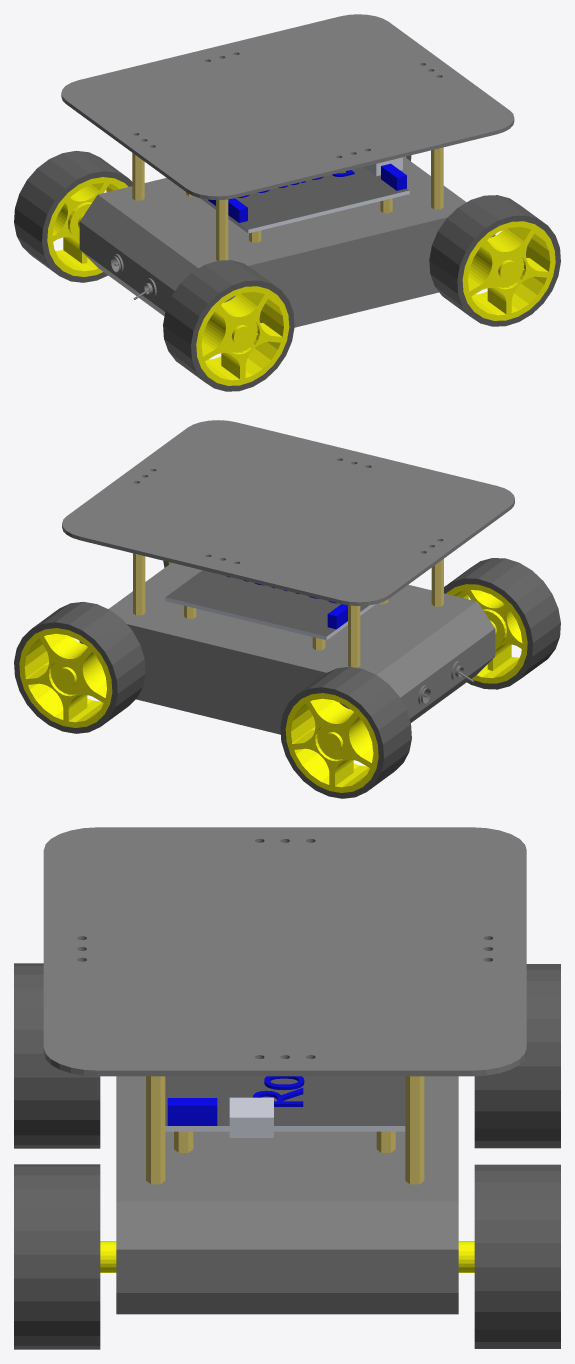
File: 4WD Cherokey Robot.glb
3 renders of one model, top to bottom at view 1: azimuth 30°, elevation 25°; view 2: azimuth 150°, elevation 25°; view 3: azimuth 270°, elevation 25°, orthographic. The views are drawn at different scales.
Parts seen in each view (by area): view 1: imagetostl_mesh0, imagetostl_mesh28, imagetostl_mesh21, imagetostl_mesh30, imagetostl_mesh56, imagetostl_mesh50, imagetostl_mesh62, imagetostl_mesh76, imagetostl_mesh51, imagetostl_mesh57, imagetostl_mesh31, imagetostl_mesh63 (+12 smaller); view 2: imagetostl_mesh0, imagetostl_mesh28, imagetostl_mesh25, imagetostl_mesh30, imagetostl_mesh44, imagetostl_mesh62, imagetostl_mesh76, imagetostl_mesh50, imagetostl_mesh63, imagetostl_mesh45, imagetostl_mesh31, imagetostl_mesh51 (+11 smaller); view 3: imagetostl_mesh0, imagetostl_mesh24, imagetostl_mesh28, imagetostl_mesh56, imagetostl_mesh44, imagetostl_mesh62, imagetostl_mesh50, imagetostl_mesh76, imagetostl_mesh16, imagetostl_mesh18, imagetostl_mesh75, imagetostl_mesh73 (+1 smaller).
Part boxes in pixels (x1=…): imagetostl_mesh0: x1=61, y1=14, x2=514, y2=200; imagetostl_mesh28: x1=116, y1=176, x2=453, y2=267; imagetostl_mesh21: x1=224, y1=221, x2=492, y2=324; imagetostl_mesh30: x1=80, y1=190, x2=212, y2=316; imagetostl_mesh56: x1=429, y1=195, x2=560, y2=326; imagetostl_mesh50: x1=163, y1=260, x2=294, y2=391; imagetostl_mesh62: x1=14, y1=150, x2=132, y2=282; imagetostl_mesh76: x1=207, y1=167, x2=409, y2=229; imagetostl_mesh51: x1=201, y1=292, x2=283, y2=380; imagetostl_mesh57: x1=468, y1=227, x2=550, y2=315; imagetostl_mesh31: x1=79, y1=221, x2=174, y2=311; imagetostl_mesh63: x1=52, y1=182, x2=121, y2=271; imagetostl_mesh0: x1=62, y1=420, x2=514, y2=605; imagetostl_mesh28: x1=121, y1=567, x2=458, y2=674; imagetostl_mesh25: x1=82, y1=627, x2=350, y2=731; imagetostl_mesh30: x1=362, y1=597, x2=494, y2=722; imagetostl_mesh44: x1=14, y1=601, x2=145, y2=733; imagetostl_mesh62: x1=280, y1=666, x2=411, y2=798; imagetostl_mesh76: x1=166, y1=570, x2=368, y2=636; imagetostl_mesh50: x1=444, y1=558, x2=560, y2=689; imagetostl_mesh63: x1=291, y1=698, x2=373, y2=787; imagetostl_mesh45: x1=24, y1=633, x2=106, y2=722; imagetostl_mesh31: x1=400, y1=628, x2=495, y2=718; imagetostl_mesh51: x1=454, y1=589, x2=522, y2=678; imagetostl_mesh0: x1=43, y1=827, x2=526, y2=1076; imagetostl_mesh24: x1=116, y1=1188, x2=458, y2=1314; imagetostl_mesh28: x1=116, y1=1076, x2=458, y2=1187; imagetostl_mesh56: x1=14, y1=1164, x2=100, y2=1349; imagetostl_mesh44: x1=474, y1=1164, x2=560, y2=1348; imagetostl_mesh62: x1=474, y1=964, x2=560, y2=1148; imagetostl_mesh50: x1=14, y1=963, x2=100, y2=1148; imagetostl_mesh76: x1=165, y1=1076, x2=405, y2=1125; imagetostl_mesh16: x1=146, y1=1076, x2=165, y2=1184; imagetostl_mesh18: x1=405, y1=1076, x2=424, y2=1184; imagetostl_mesh75: x1=229, y1=1097, x2=273, y2=1137; imagetostl_mesh73: x1=167, y1=1098, x2=217, y2=1125.
Bounding box in the file's own units: 8.13 × 3.95 × 6.73.
